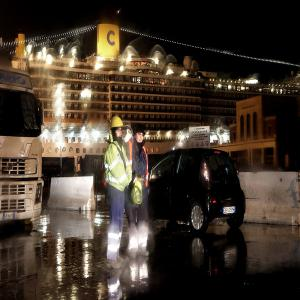none: (134, 124, 145, 145)
yellow: (110, 117, 124, 141)
